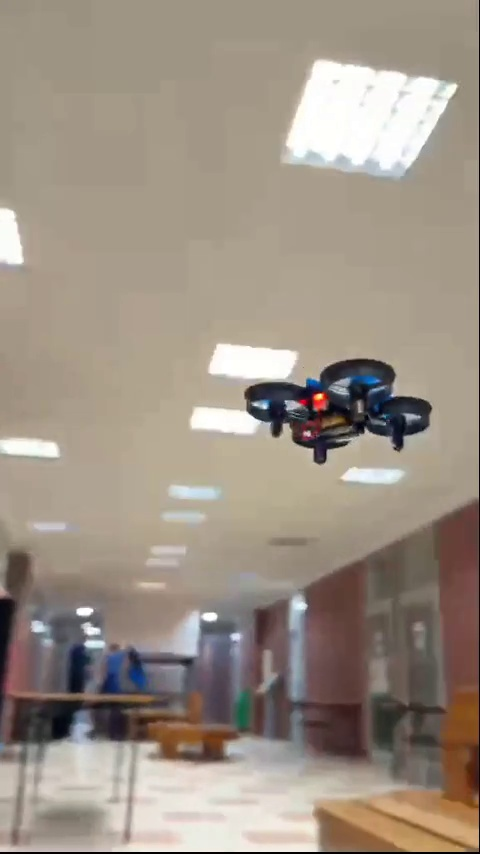drone: (247, 360, 434, 467)
no vest: (63, 636, 94, 699), (99, 641, 130, 688)
